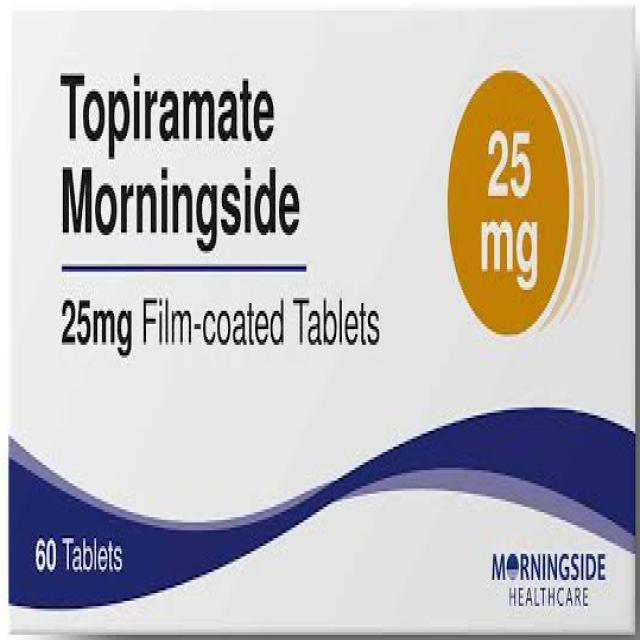drug-name: (58, 66, 279, 162)
